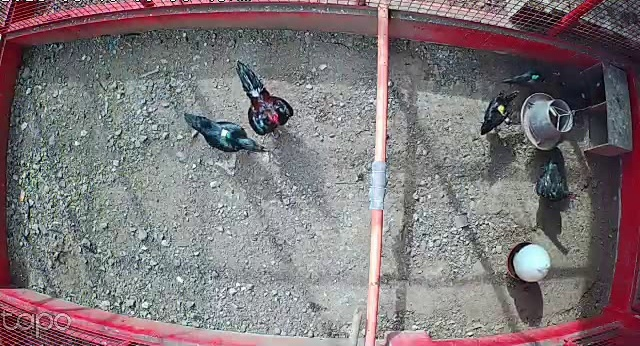Chicken: (177, 107, 271, 159), (529, 149, 580, 203), (480, 86, 521, 134), (499, 65, 562, 90)
Rooster: (233, 57, 296, 134)
Saddle_Color_Yellow: (495, 99, 507, 117)
Saddle_Color_YellowGreen: (219, 127, 234, 139)
